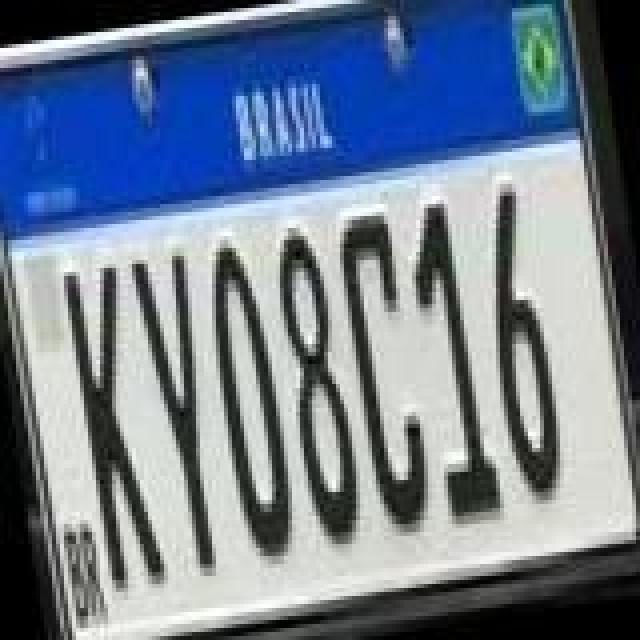1: (396, 194, 508, 526)
6: (466, 178, 574, 502)
8: (264, 218, 368, 550)
C: (330, 206, 438, 530)
K: (58, 256, 166, 592)
O: (192, 234, 304, 566)
Y: (130, 246, 238, 570)
